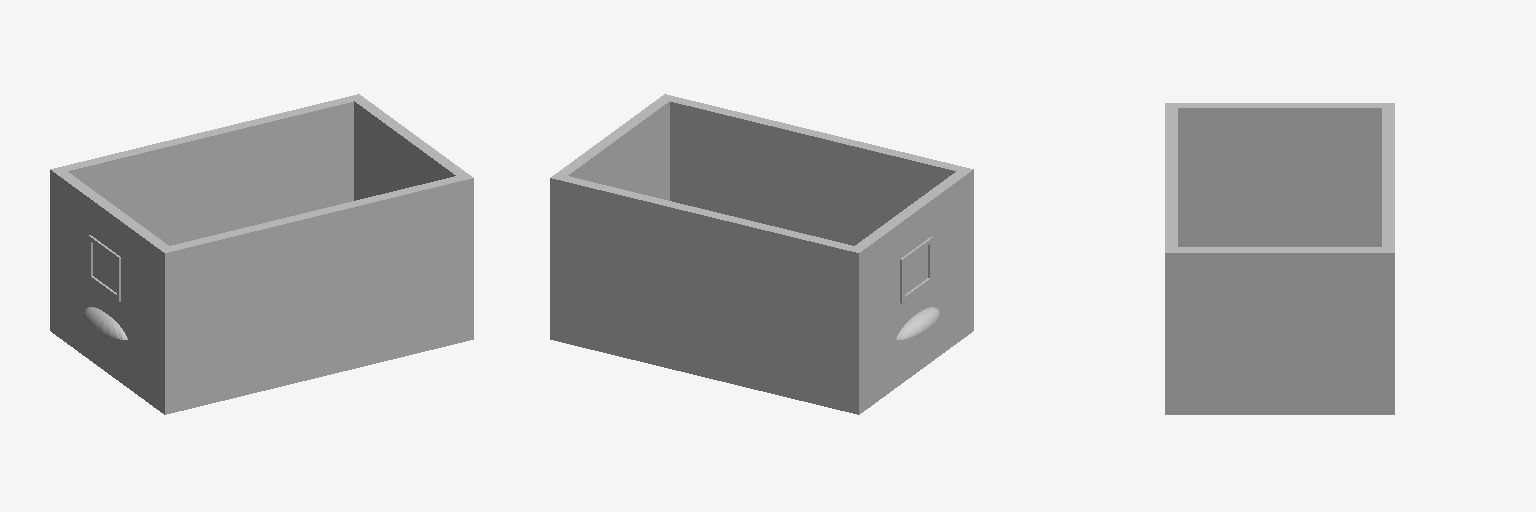
The model's file is drawer1.obj.
3 renders of one model, left to right at view 1: azimuth 30°, elevation 25°; view 2: azimuth 150°, elevation 25°; view 3: azimuth 270°, elevation 25°, orthographic.
Visible parts, largest first — view 1: filing_cabinate:pCube12; view 2: filing_cabinate:pCube12; view 3: filing_cabinate:pCube12.
Part boxes in pixels (x1,y1,x2,y2): filing_cabinate:pCube12: (50,94,473,414); filing_cabinate:pCube12: (550,94,973,414); filing_cabinate:pCube12: (1165,103,1394,414).
Size of the model in its own units: 7.27 by 3.5 by 4.5.